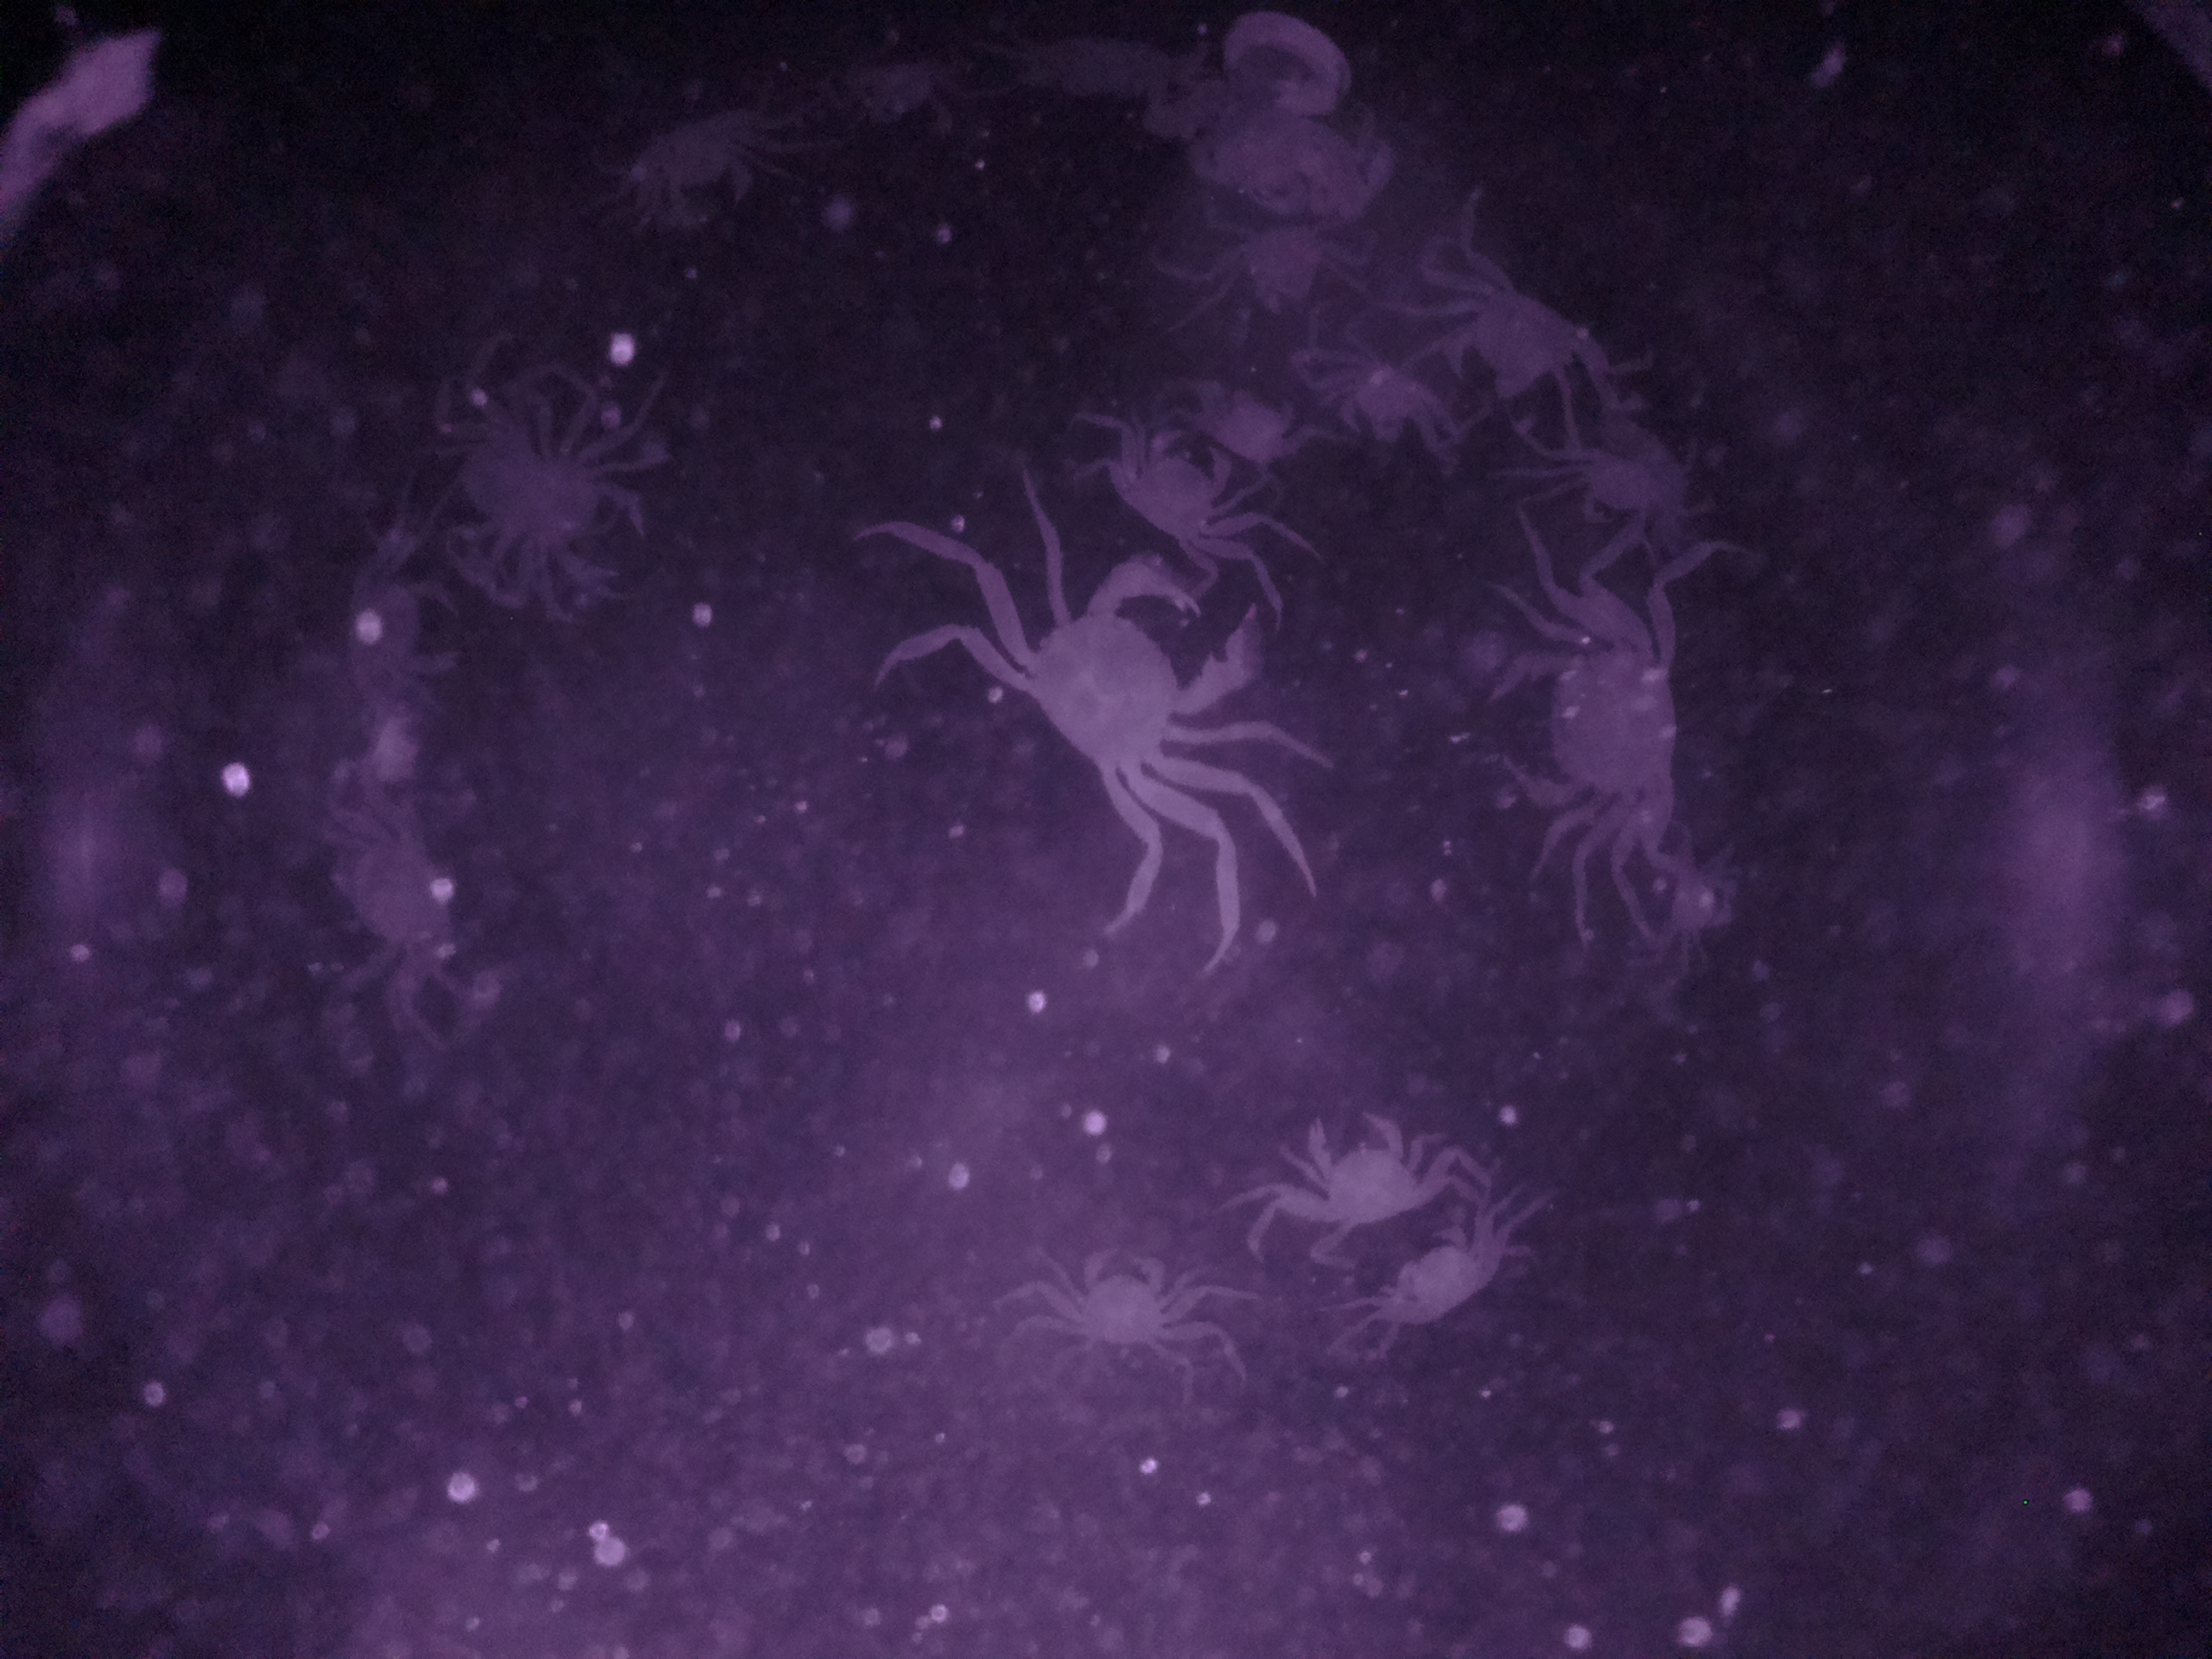Crab: (979, 565, 1268, 810), (1484, 615, 1693, 852), (1426, 270, 1622, 415), (1285, 1094, 1446, 1249), (1045, 1234, 1202, 1364), (1115, 408, 1249, 551), (1367, 1211, 1498, 1345)
